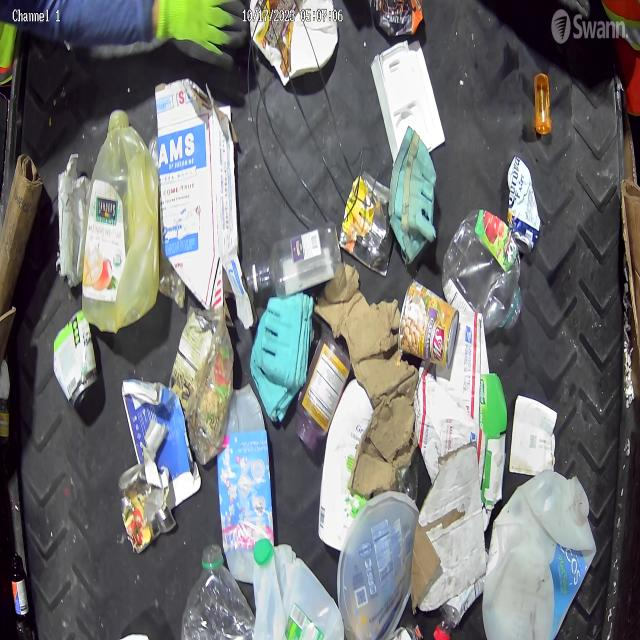can: (398, 278, 460, 369), (339, 172, 392, 275), (115, 463, 175, 552), (53, 312, 97, 408), (506, 154, 543, 256)
milk_jug: (483, 468, 598, 639), (251, 538, 345, 640)
non_white_jug: (84, 108, 160, 332)
plastic_bottle: (442, 208, 526, 338), (182, 546, 255, 640), (248, 226, 338, 296)
